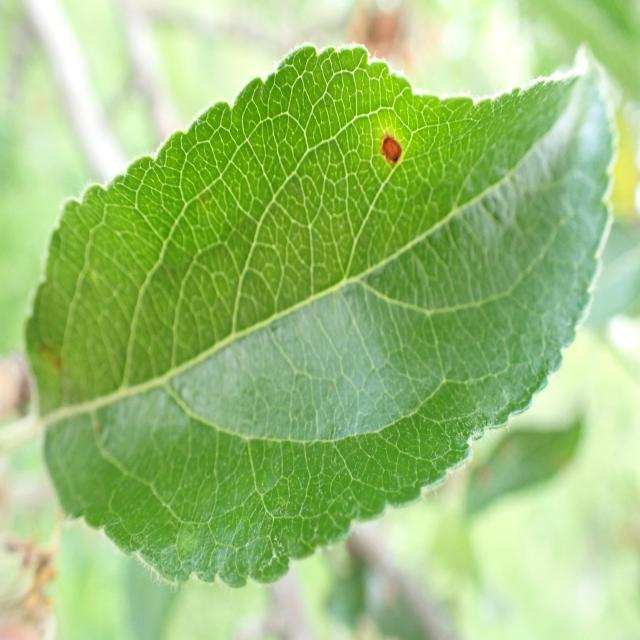Black Rot: (360, 107, 415, 193)
